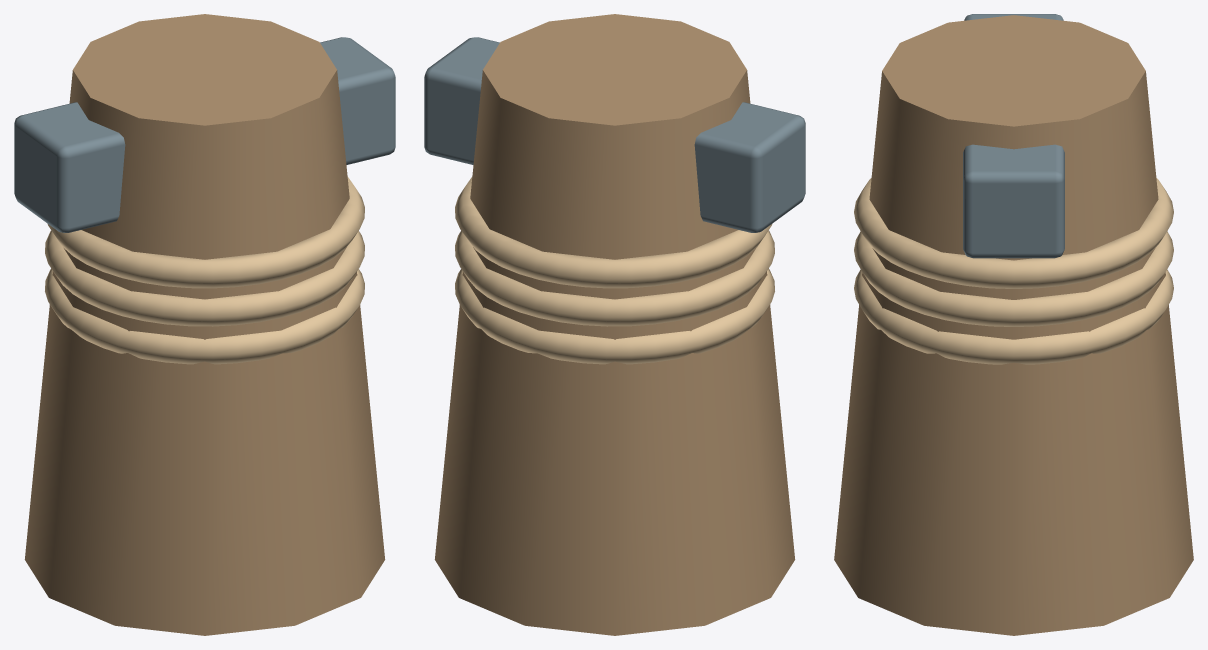
The model's file is mooring_post.glb.
3 views of the same model, side by side, from view 1: azimuth 30°, elevation 25°; view 2: azimuth 150°, elevation 25°; view 3: azimuth 270°, elevation 25° (orthographic).
Parts seen in each view (by area): view 1: mooring_post; view 2: mooring_post; view 3: mooring_post.
Part boxes in pixels (box(x1,y1,x2,y2)): mooring_post: box(14, 14, 395, 635); mooring_post: box(424, 14, 805, 635); mooring_post: box(834, 14, 1193, 635).
Size of the model in its own units: 0.65 by 0.9 by 0.6.
